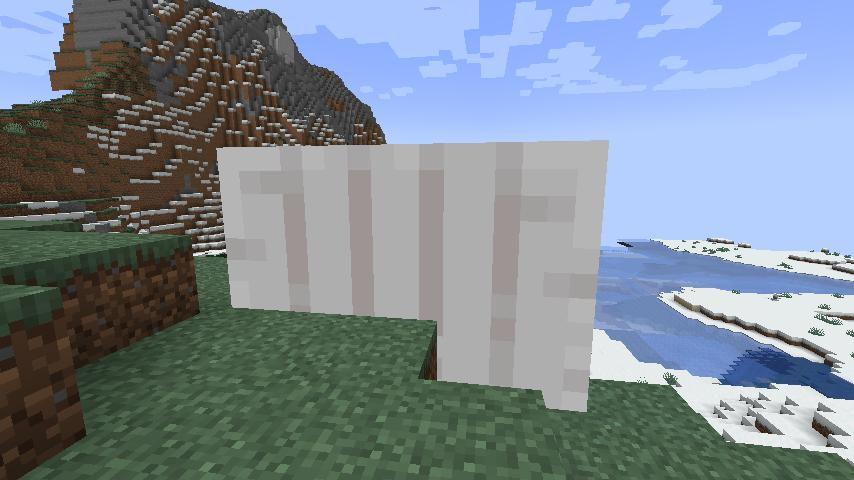ghast: (215, 139, 614, 417)
